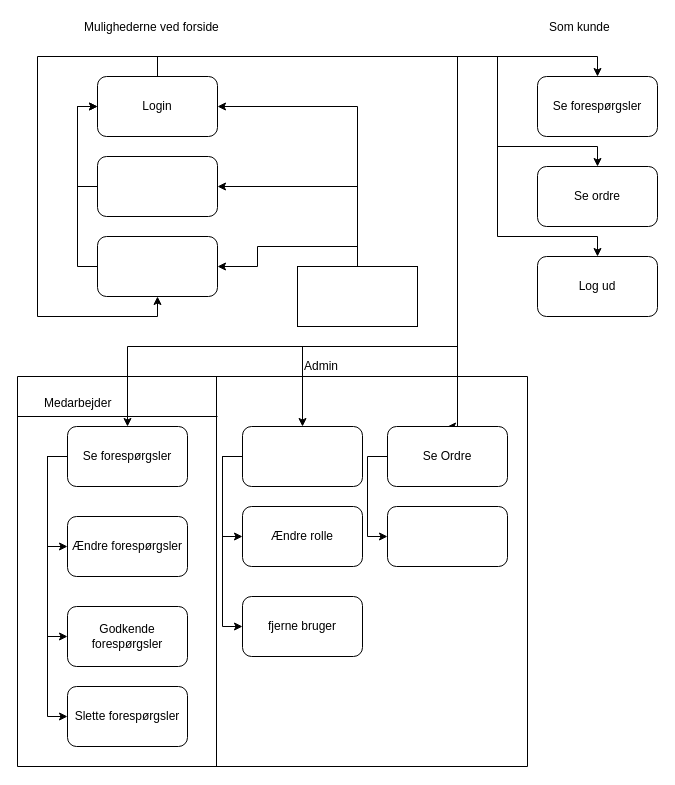
Some shapes in this 675 by 785 pixel diagram are drawn without their labels. The shapes that lost their labels are listed below. From the top down, each one's centre as x and y in pixels, then its label:
the point at 157,186: Registrer
the point at 157,266: Lav forespørgsel
the point at 357,296: Forside
the point at 302,456: Se brugere
the point at 447,536: Vis ordre med stykliste og tegning
